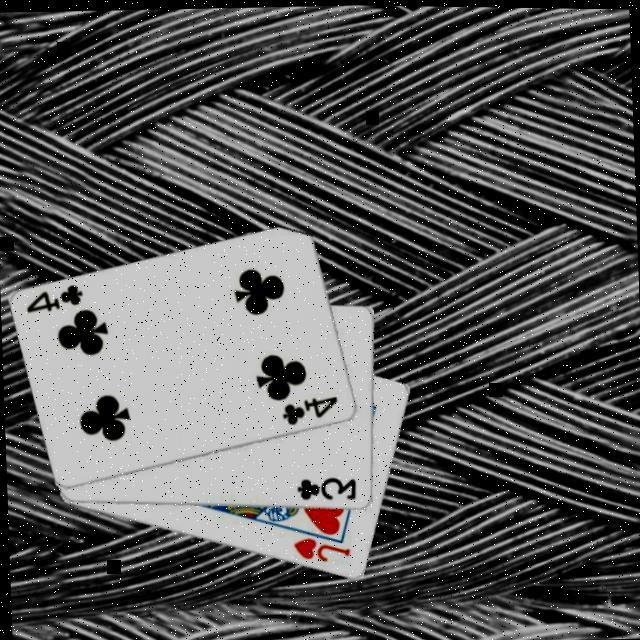3C: (295, 471, 360, 502)
4C: (22, 278, 86, 315), (280, 390, 342, 425)
JH: (290, 530, 354, 564)
